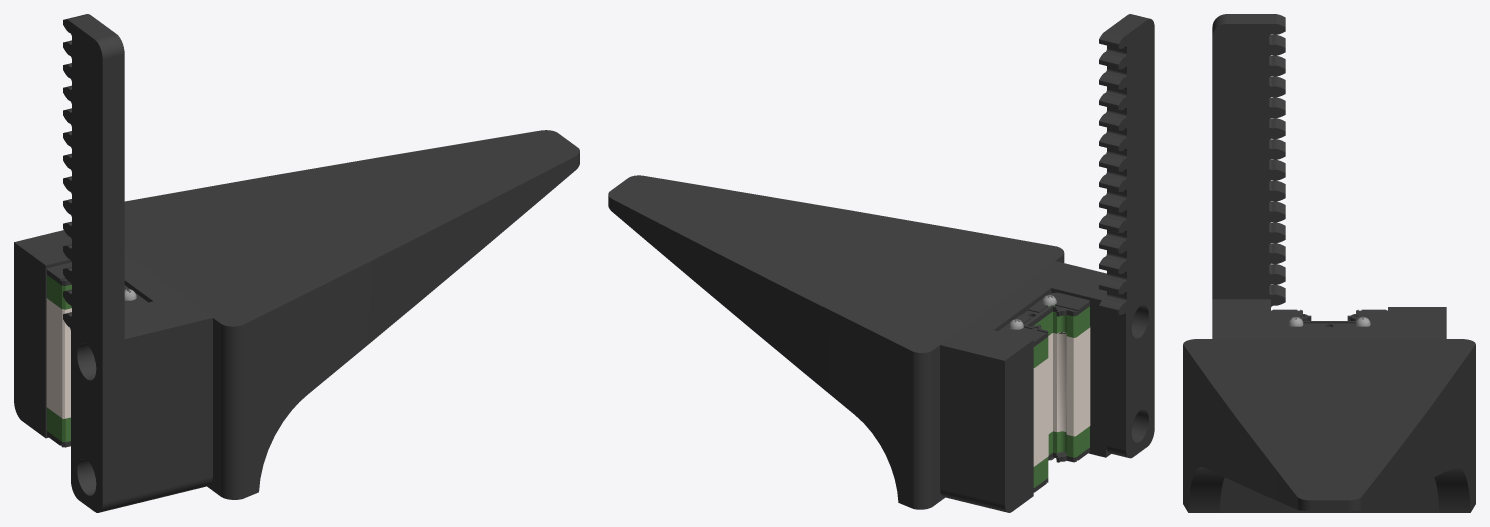
Rendered from finger_right.glb.
3 renders of one model, left to right at view 1: azimuth 30°, elevation 25°; view 2: azimuth 150°, elevation 25°; view 3: azimuth 270°, elevation 25°, orthographic. The views are drawn at different scales.
Visible parts, largest first — view 1: Finger v0.2 v2, Zahnstange v0.2 v003, FingerAdapter v0.2 v4, Component9; view 2: Finger v0.2 v2, FingerAdapter v0.2 v4, Zahnstange v0.2 v003, Component9, Component6, Component5, Component004; view 3: Finger v0.2 v2, Zahnstange v0.2 v003, FingerAdapter v0.2 v4, Component6.
Part boxes in pixels (x1,y1,x2,y2): Finger v0.2 v2: (124, 130, 579, 499); Zahnstange v0.2 v003: (63, 14, 124, 512); FingerAdapter v0.2 v4: (14, 230, 212, 507); Component9: (46, 298, 71, 418); Finger v0.2 v2: (608, 175, 1064, 509); FingerAdapter v0.2 v4: (940, 261, 1110, 512); Zahnstange v0.2 v003: (1099, 14, 1154, 458); Component9: (1033, 327, 1090, 466); Component6: (998, 292, 1089, 346); Component5: (1033, 305, 1089, 367); Component004: (1033, 426, 1089, 487); Finger v0.2 v2: (1183, 339, 1475, 512); Zahnstange v0.2 v003: (1212, 14, 1285, 306); FingerAdapter v0.2 v4: (1212, 299, 1446, 338); Component6: (1271, 309, 1387, 326).
Bounding box in the file's own units: 0.096 × 0.0827 × 0.05.
